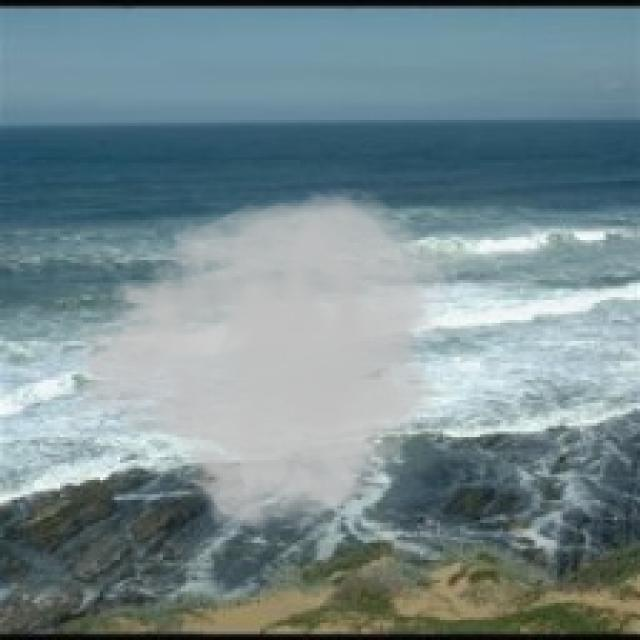smoke: (57, 186, 454, 534)
